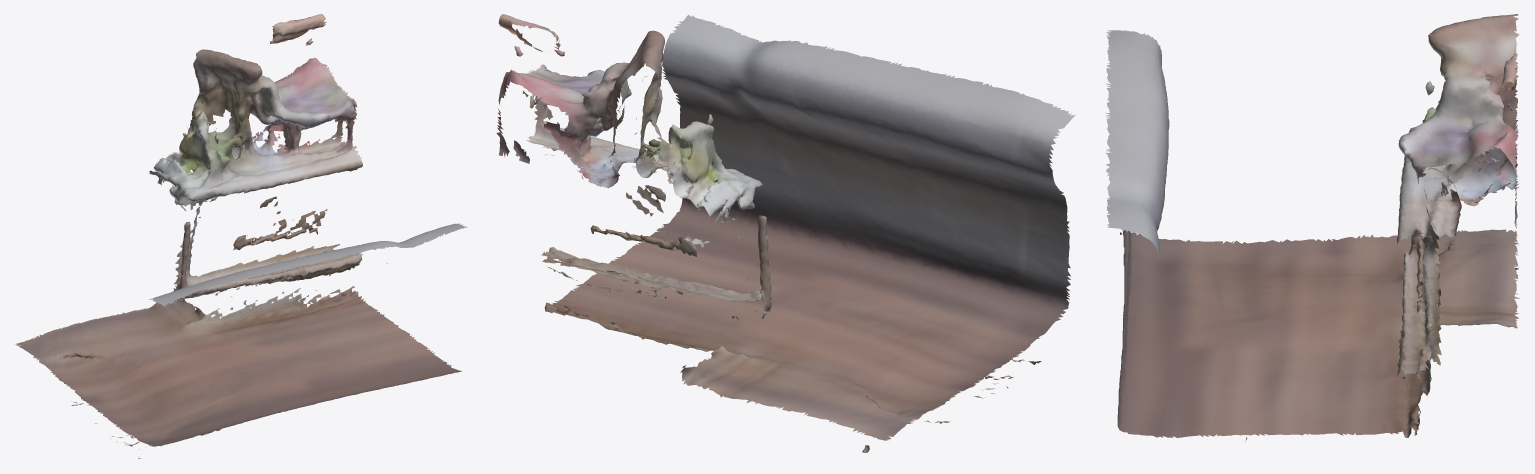
The model's file is apartment-full-85-607114fc7245.glb.
The picture shows the model from 3 angles, left to right: view 1: azimuth 30°, elevation 25°; view 2: azimuth 150°, elevation 25°; view 3: azimuth 270°, elevation 25°; orthographic projection. The views are drawn at different scales.
Bounding box in the file's own units: 0.893 × 0.796 × 0.757.
